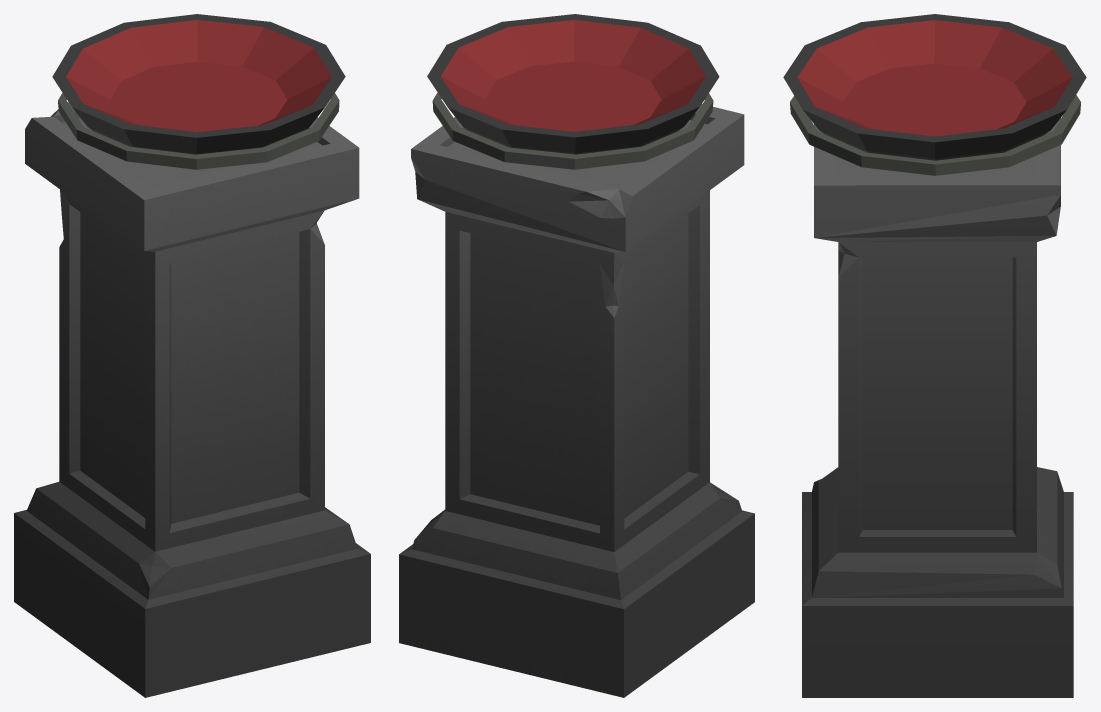
The model's file is ZLPC_Torch_04.FBX.
The picture shows the model from 3 angles, left to right: view 1: azimuth 30°, elevation 25°; view 2: azimuth 150°, elevation 25°; view 3: azimuth 270°, elevation 25°; orthographic projection. The views are drawn at different scales.
Visible parts, largest first — view 1: ZLPC_Torch_04; view 2: ZLPC_Torch_04; view 3: ZLPC_Torch_04.
Part boxes in pixels (x1=…): ZLPC_Torch_04: x1=14, y1=14, x2=370, y2=697; ZLPC_Torch_04: x1=399, y1=14, x2=754, y2=697; ZLPC_Torch_04: x1=783, y1=14, x2=1086, y2=697.
Size of the model in its own units: 148 by 305 by 148.
Materials: 1 (1 with a texture image).
